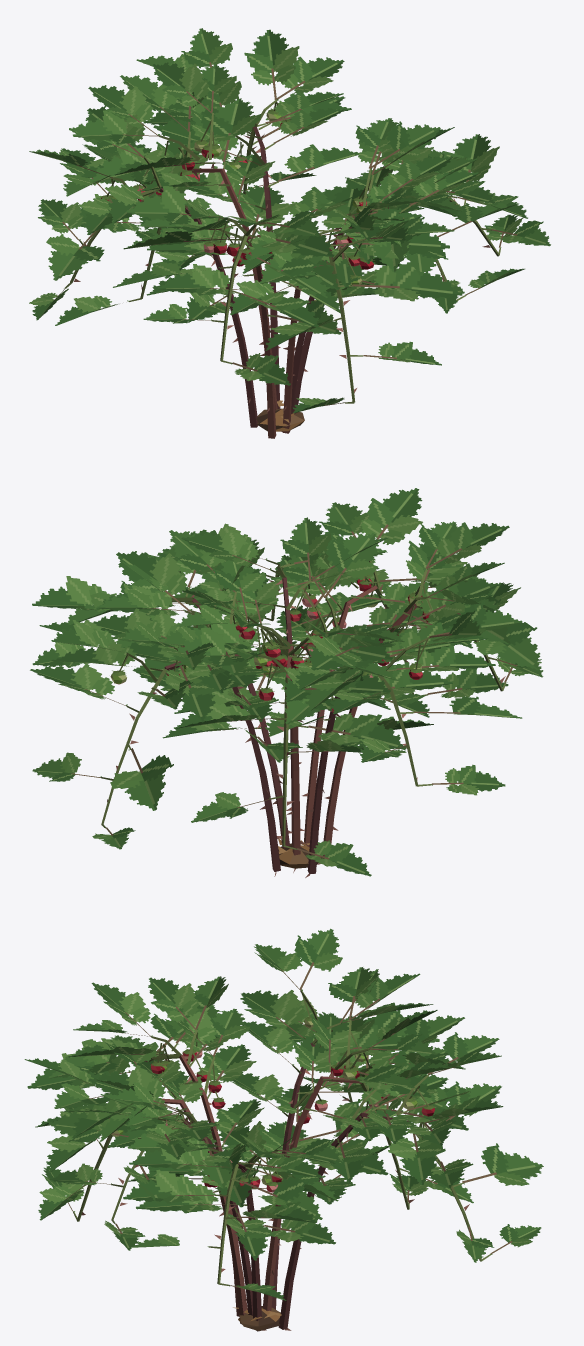
Rendered from raspberry_bush1_v1.fbx.
3 views of the same model, one above another, from view 1: azimuth 30°, elevation 25°; view 2: azimuth 150°, elevation 25°; view 3: azimuth 270°, elevation 25° (orthographic). The views are drawn at different scales.
Parts seen in each view (by area): view 1: raspberry_bush1_v1; view 2: raspberry_bush1_v1; view 3: raspberry_bush1_v1.
Boxes of the visible parts, x1,y1,x2,y2 form: raspberry_bush1_v1: [29, 28, 550, 438]; raspberry_bush1_v1: [30, 488, 543, 877]; raspberry_bush1_v1: [24, 928, 543, 1331].
Size of the model in its own units: 200 by 124 by 196.
